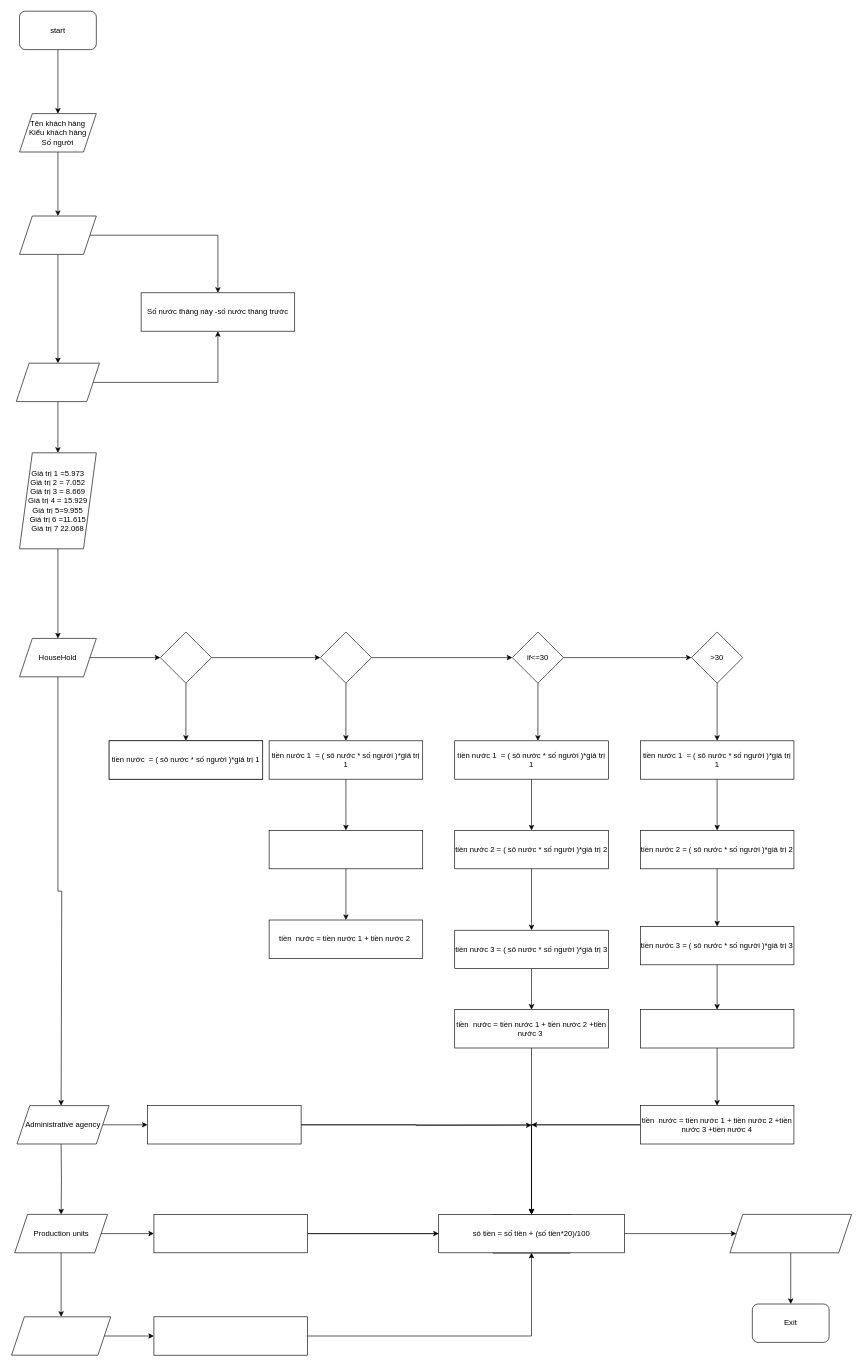
The diagram is 863 pixels wide and 1366 high, and some of its shapes have lost their labels. The shapes that lost their labels are listed below. From the top down, each one's centre as x and y in pixels, then its label:
point 57,234: Số nước tháng này
point 58,382: Số nước tháng trước
point 186,657: If <=10
point 346,657: If<=20
point 345,849: tiền nước 2 = ( só nước * số người ) *giá trị 2
point 717,1028: tiền nước 4 = ( sô nước * số người )*giá trị 4
point 224,1124: tiền nước = ( sô nước * số người )*giá trị 5
point 230,1233: tiền nước = ( sô nước * số người )*giá trị 6
point 790,1233: in ra bill
point 61,1335: Business Services
point 230,1335: tiền nước = ( sô nước * số người )*giá trị 7
